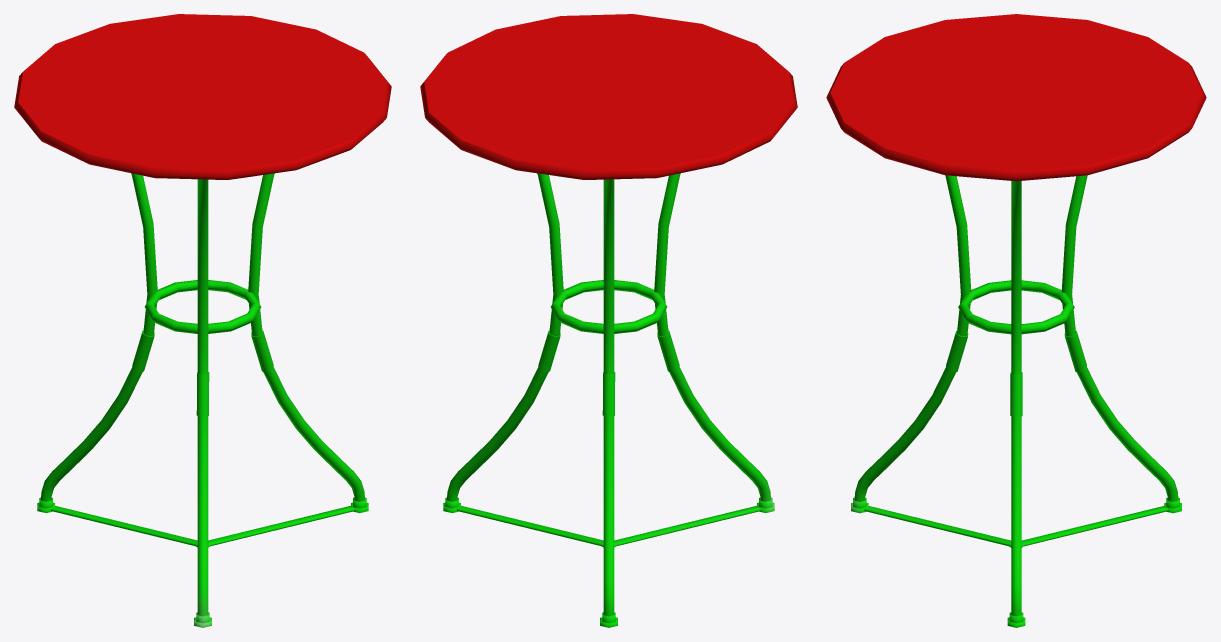
File: sh_table.fbx
3 views of the same model, side by side, from view 1: azimuth 30°, elevation 25°; view 2: azimuth 150°, elevation 25°; view 3: azimuth 270°, elevation 25° (orthographic).
Visible parts, largest first — view 1: sh_table.001; view 2: sh_table.001; view 3: sh_table.001.
Part boxes in pixels (x1,y1,x2,y2): sh_table.001: (14,14,391,627); sh_table.001: (420,14,797,627); sh_table.001: (826,14,1206,627).
Bounding box in the file's own units: 69.18 × 91 × 69.02.
